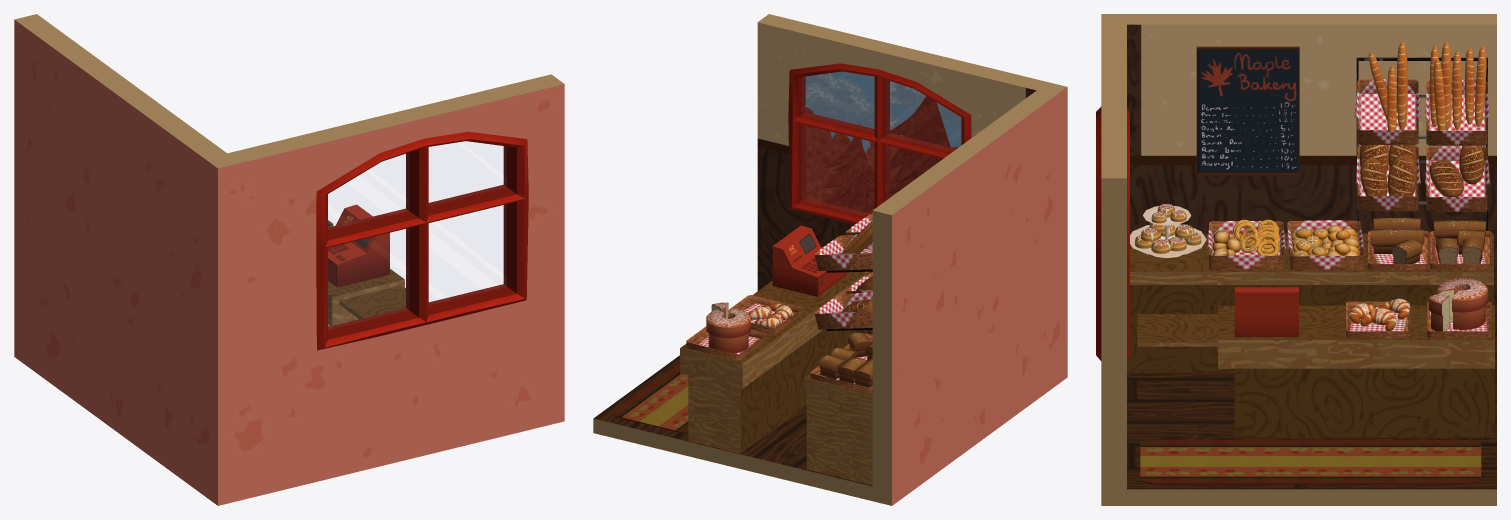
File: bakery.gltf
3 renders of one model, left to right at view 1: azimuth 30°, elevation 25°; view 2: azimuth 150°, elevation 25°; view 3: azimuth 270°, elevation 25°, orthographic. The views are drawn at different scales.
Parts seen in each view (by area): view 1: Box073, Box077, Box074; view 2: Box073, Box074, Plane001, Box075, Box077, Box080, Box071, Box058, Object003_09 - Default_0, Box082, Object003_05 - Default_0, Object002_05 - Default_0 (+1 smaller); view 3: Box073, Box074, Box075, Box080, Box076, Box071, Box016, Box058, Torus001, Box039, Box077, Box081 (+18 smaller).
Part boxes in pixels (<box>): Box073: <box>14,14,564,505</box>; Box077: <box>328,204,389,287</box>; Box074: <box>328,269,405,326</box>; Box073: <box>593,14,1067,505</box>; Box074: <box>680,269,872,453</box>; Plane001: <box>805,71,961,213</box>; Box075: <box>804,332,872,485</box>; Box077: <box>772,225,846,296</box>; Box080: <box>614,363,688,433</box>; Box071: <box>810,332,872,392</box>; Box058: <box>814,292,872,329</box>; Object003_09 - Default_0: <box>706,308,750,353</box>; Box082: <box>814,234,872,270</box>; Object003_05 - Default_0: <box>686,326,766,360</box>; Object002_05 - Default_0: <box>728,295,802,334</box>; Box073: <box>1096,14,1496,505</box>; Box074: <box>1137,305,1494,437</box>; Box075: <box>1127,233,1493,372</box>; Box080: <box>1140,440,1481,484</box>; Box076: <box>1196,46,1299,175</box>; Box071: <box>1368,217,1491,269</box>; Box016: <box>1356,145,1420,211</box>; Box058: <box>1425,145,1489,212</box>; Torus001: <box>1207,219,1286,270</box>; Box039: <box>1287,220,1364,270</box>; Box077: <box>1234,287,1298,336</box>; Box081: <box>1354,79,1420,144</box>.
Bounding box in the file's own units: 2951 × 2745 × 3042.
25 materials, 25 textured.
